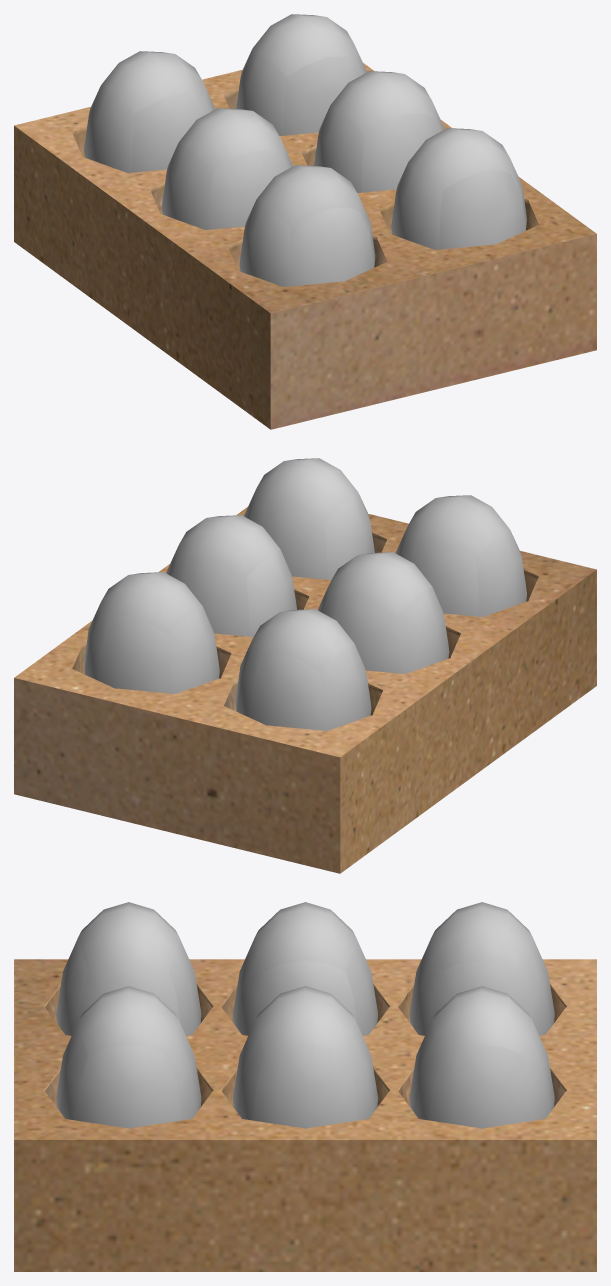
Rendered from Eggs.fbx.
3 views of the same model, one above another, from view 1: azimuth 30°, elevation 25°; view 2: azimuth 150°, elevation 25°; view 3: azimuth 270°, elevation 25° (orthographic). The views are drawn at different scales.
Parts seen in each view (by area): view 1: EggsCarton, Eggs; view 2: EggsCarton, Eggs; view 3: EggsCarton, Eggs.
Part boxes in pixels (x1,y1,x2,y2): EggsCarton: (14, 63, 596, 429); Eggs: (84, 14, 526, 286); EggsCarton: (14, 507, 596, 873); Eggs: (84, 458, 526, 730); EggsCarton: (14, 959, 596, 1271); Eggs: (56, 902, 554, 1128).
Bounding box in the file's own units: 19.36 × 11.57 × 26.4.
